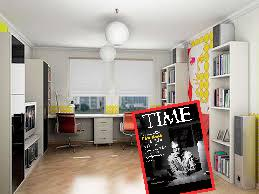times: (130, 99, 215, 193)
